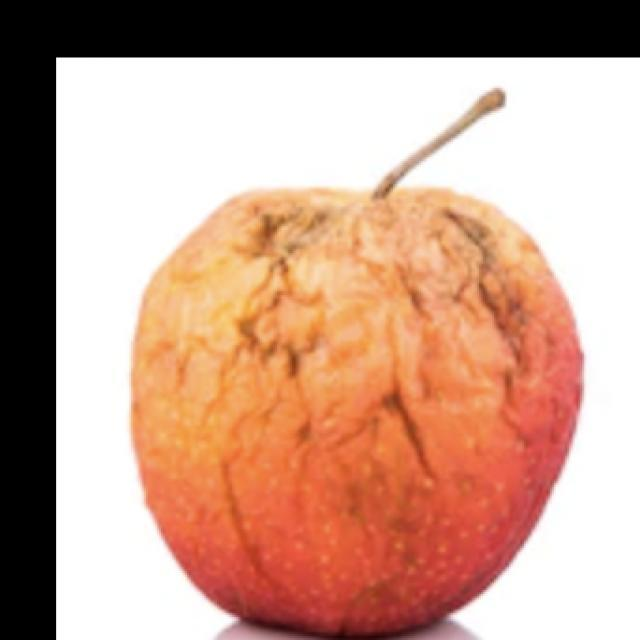Rotten: (147, 175, 590, 628)
